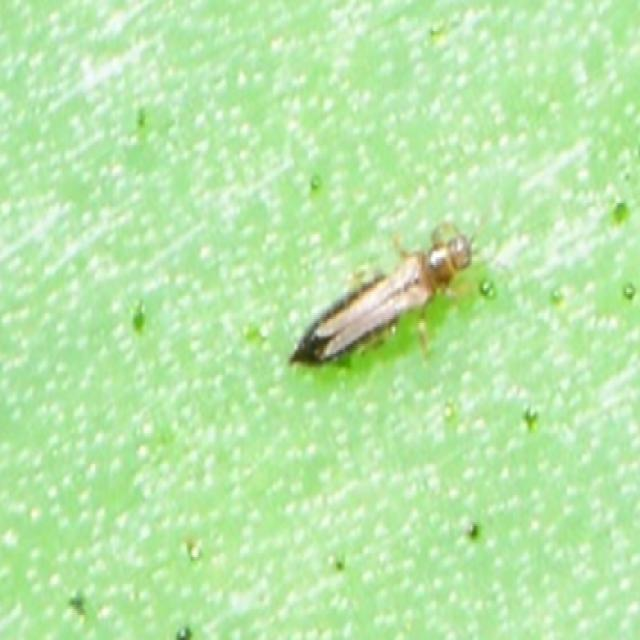Thrip-Adult-: (285, 222, 483, 379)
